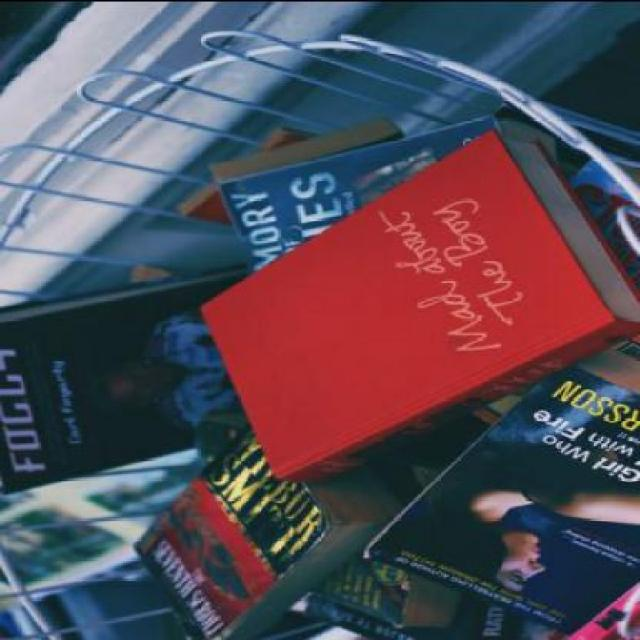book: (206, 143, 630, 487), (374, 306, 640, 640), (0, 201, 295, 489), (124, 409, 414, 638)
